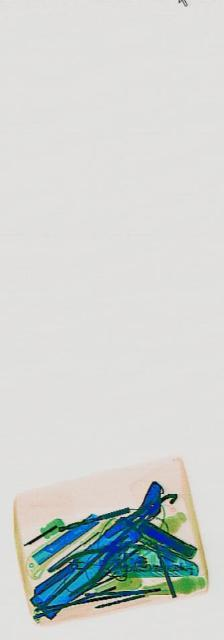Pliers: (54, 506, 131, 612)
